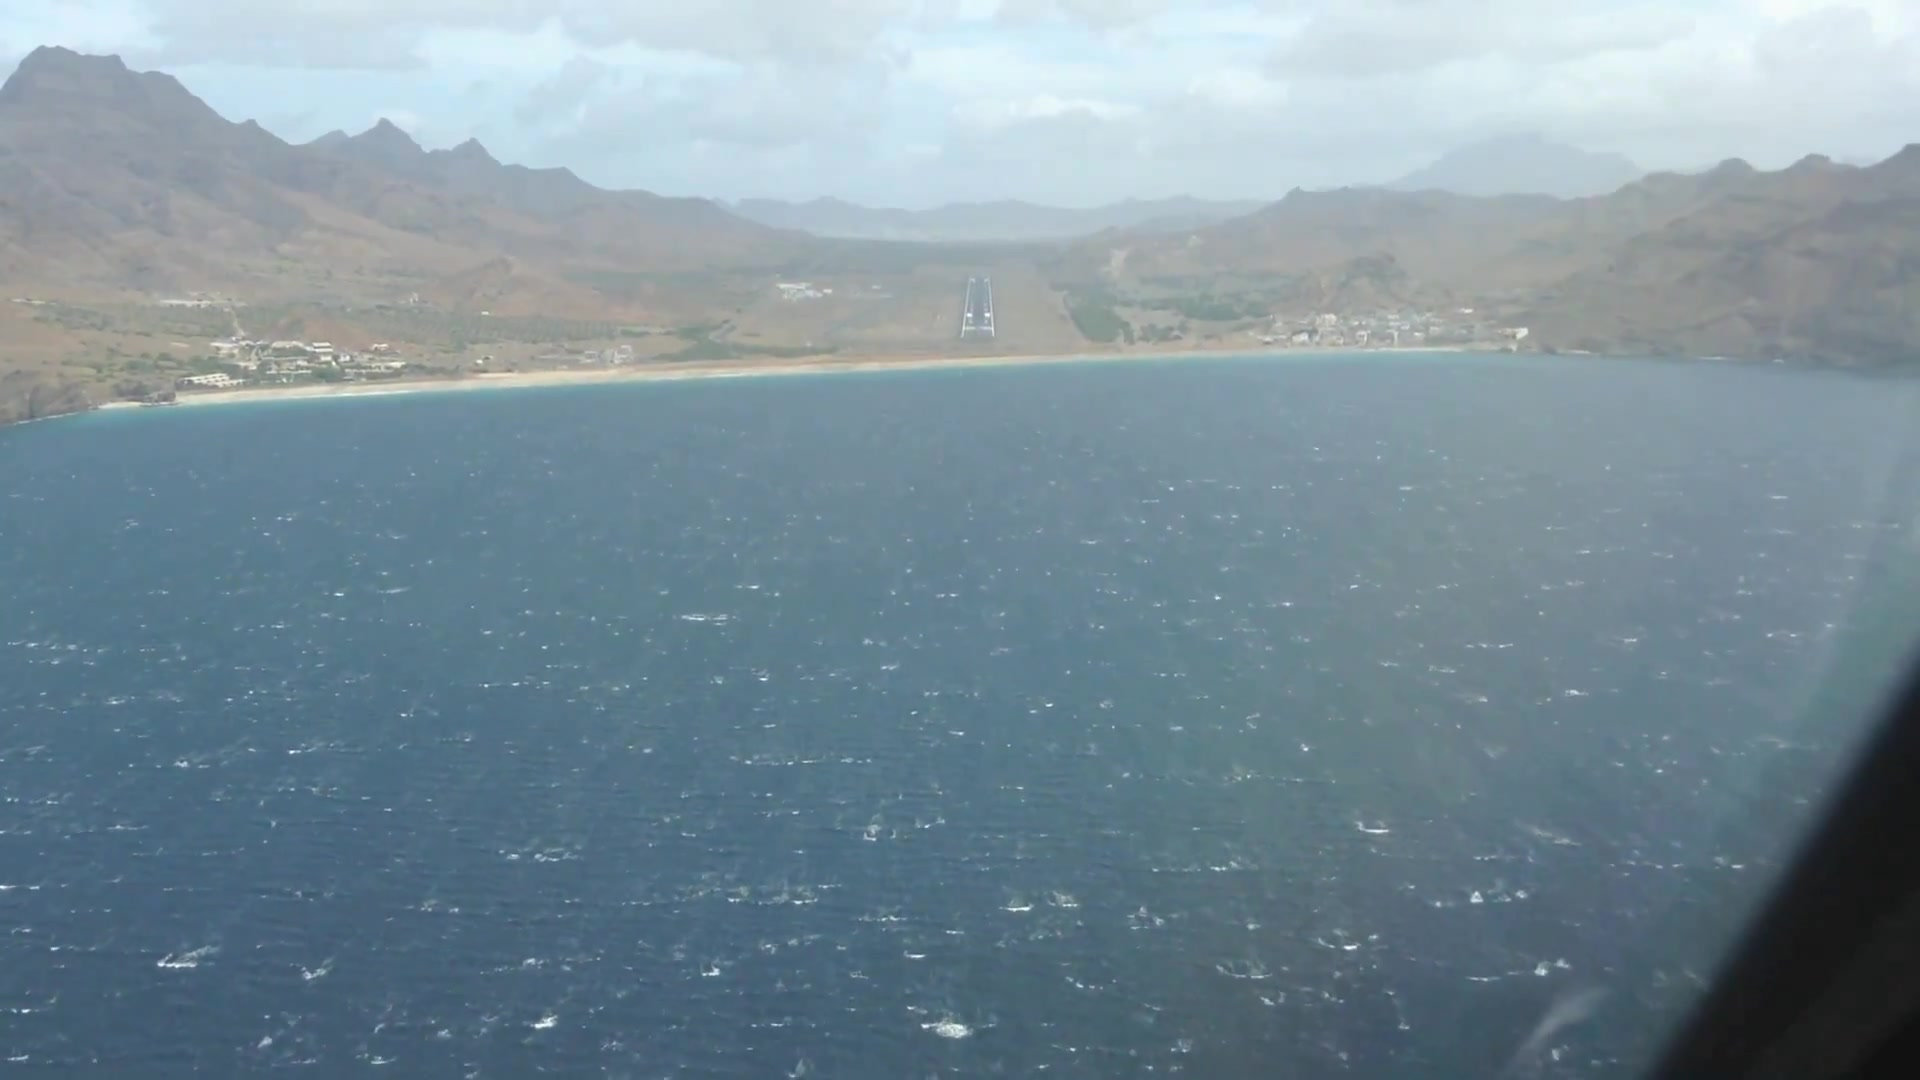runway: (959, 276, 996, 342)
